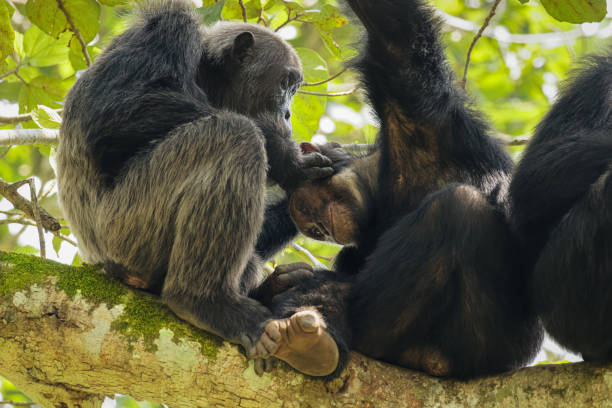chimpanzee: (207, 13, 316, 138)
